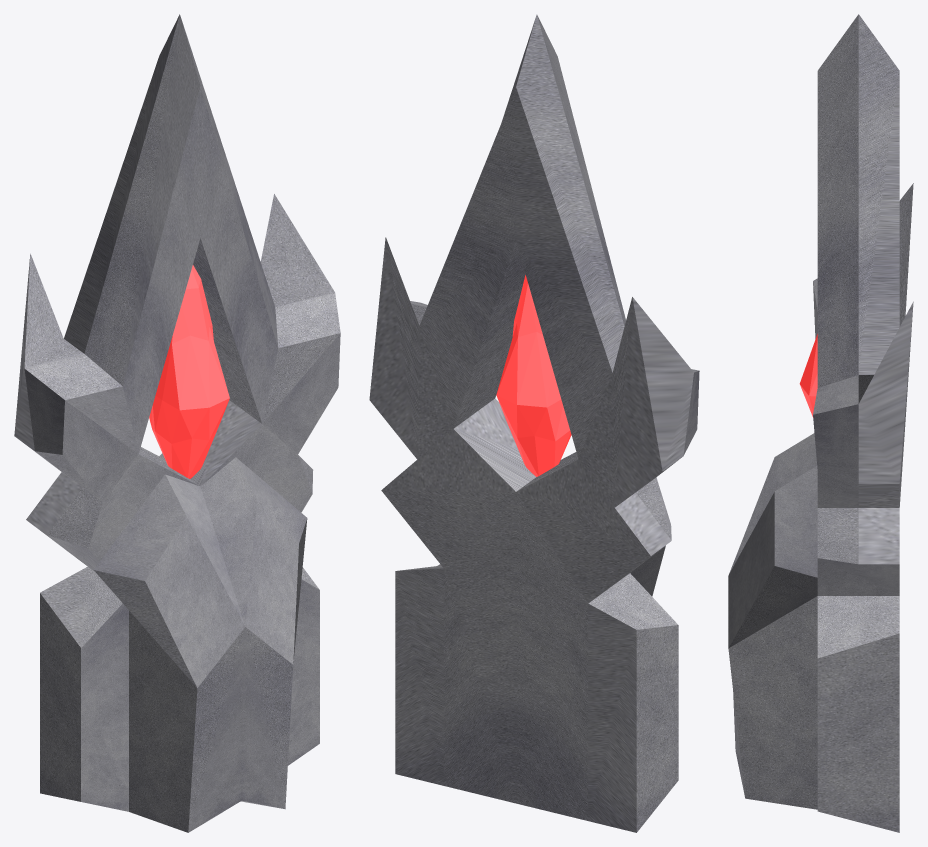
Rendered from lava_boy_shrine.glb.
3 renders of one model, left to right at view 1: azimuth 30°, elevation 25°; view 2: azimuth 150°, elevation 25°; view 3: azimuth 270°, elevation 25°, orthographic.
Visible parts, largest first — view 1: Totem, Gem; view 2: Totem, Gem; view 3: Totem, Gem.
Boxes of the visible parts, x1,y1,x2,y2 form: Totem: (14, 14, 340, 832); Gem: (149, 265, 229, 478); Totem: (369, 14, 699, 832); Gem: (496, 275, 571, 476); Totem: (728, 14, 913, 832); Gem: (799, 334, 817, 417).
Bounding box in the file's own units: 4.35 × 10.23 × 2.26.
2 materials, 1 textured.
